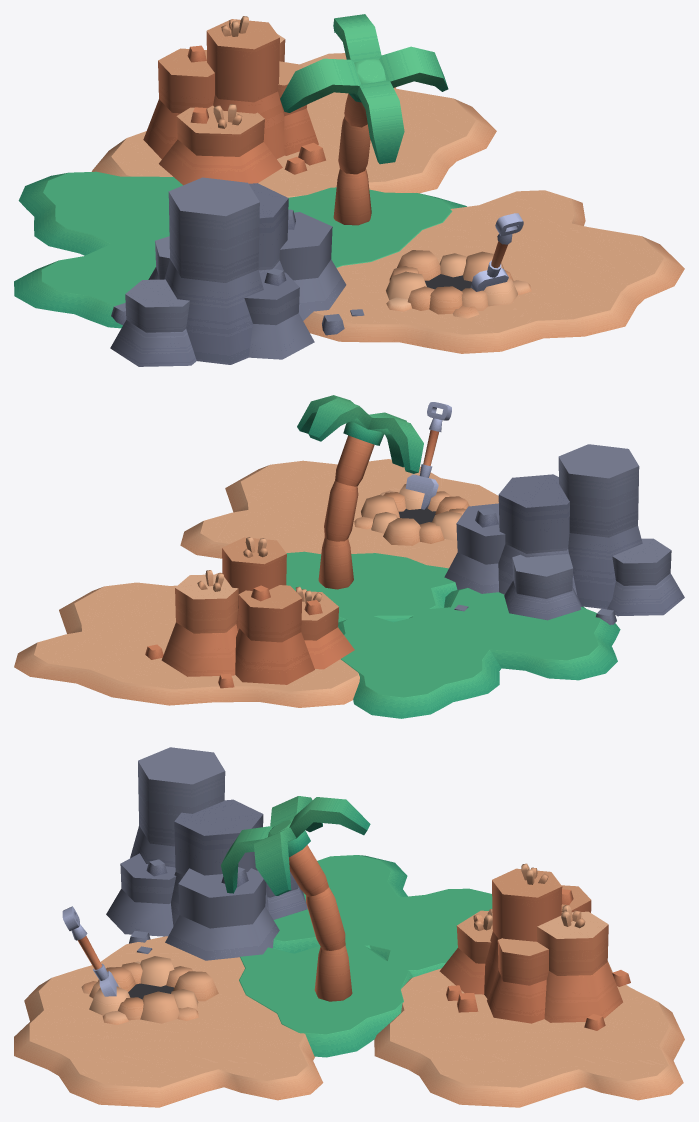
The model's file is TreasureHunt.glb.
3 renders of one model, top to bottom at view 1: azimuth 30°, elevation 25°; view 2: azimuth 150°, elevation 25°; view 3: azimuth 270°, elevation 25°, orthographic. The views are drawn at different scales.
Visible parts, largest first — view 1: rocks-a, patch-sand, rocks-sand-c, patch-sand.002, palm-bend, patch-grass.002, patch-grass.001, patch-grass, hole, tool-shovel; view 2: rocks-a, rocks-sand-c, patch-sand.002, patch-sand, patch-grass.002, patch-grass.001, palm-bend, patch-grass, hole, tool-shovel; view 3: patch-sand, patch-sand.002, rocks-a, rocks-sand-c, patch-grass, palm-bend, patch-grass.002, patch-grass.001, hole, tool-shovel.
Boxes of the visible parts, <box> form: rocks-a: <box>110,177,364,366</box>; patch-sand: <box>303,190,684,353</box>; rocks-sand-c: <box>143,16,325,185</box>; patch-sand.002: <box>91,53,496,197</box>; palm-bend: <box>280,14,448,225</box>; patch-grass.002: <box>18,171,182,255</box>; patch-grass.001: <box>14,244,155,328</box>; patch-grass: <box>288,187,466,267</box>; hole: <box>386,250,531,318</box>; tool-shovel: <box>470,213,523,291</box>; rocks-a: <box>444,444,684,625</box>; rocks-sand-c: <box>145,537,354,688</box>; patch-sand.002: <box>14,582,359,707</box>; patch-sand: <box>180,459,498,568</box>; patch-grass.002: <box>338,614,501,718</box>; patch-grass.001: <box>409,588,620,680</box>; palm-bend: <box>297,395,423,589</box>; patch-grass: <box>286,551,457,622</box>; hole: <box>354,484,469,545</box>; tool-shovel: <box>405,402,451,509</box>; patch-sand: <box>14,936,323,1107</box>; patch-sand.002: <box>374,961,684,1107</box>; rocks-a: <box>106,747,307,960</box>; rocks-sand-c: <box>439,863,630,1030</box>; patch-grass: <box>239,943,412,1057</box>; palm-bend: <box>221,796,370,1001</box>; patch-grass.002: <box>344,888,492,977</box>; patch-grass.001: <box>272,855,407,953</box>; hole: <box>81,956,218,1024</box>; tool-shovel: <box>62,906,118,996</box>.
Size of the model in its own units: 11.57 by 4.32 by 13.04.
Materials: 11 (11 with a texture image).
